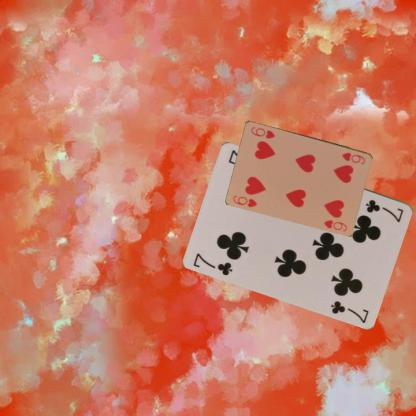6h: (230, 192, 259, 209), (339, 150, 366, 165)
7c: (191, 249, 235, 276), (363, 196, 405, 224)
